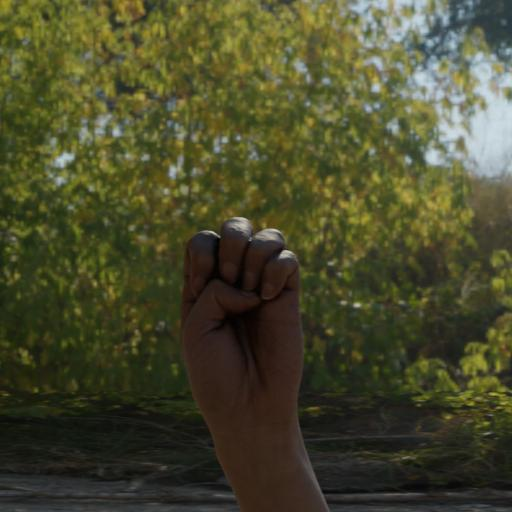E: (176, 195, 349, 451)
